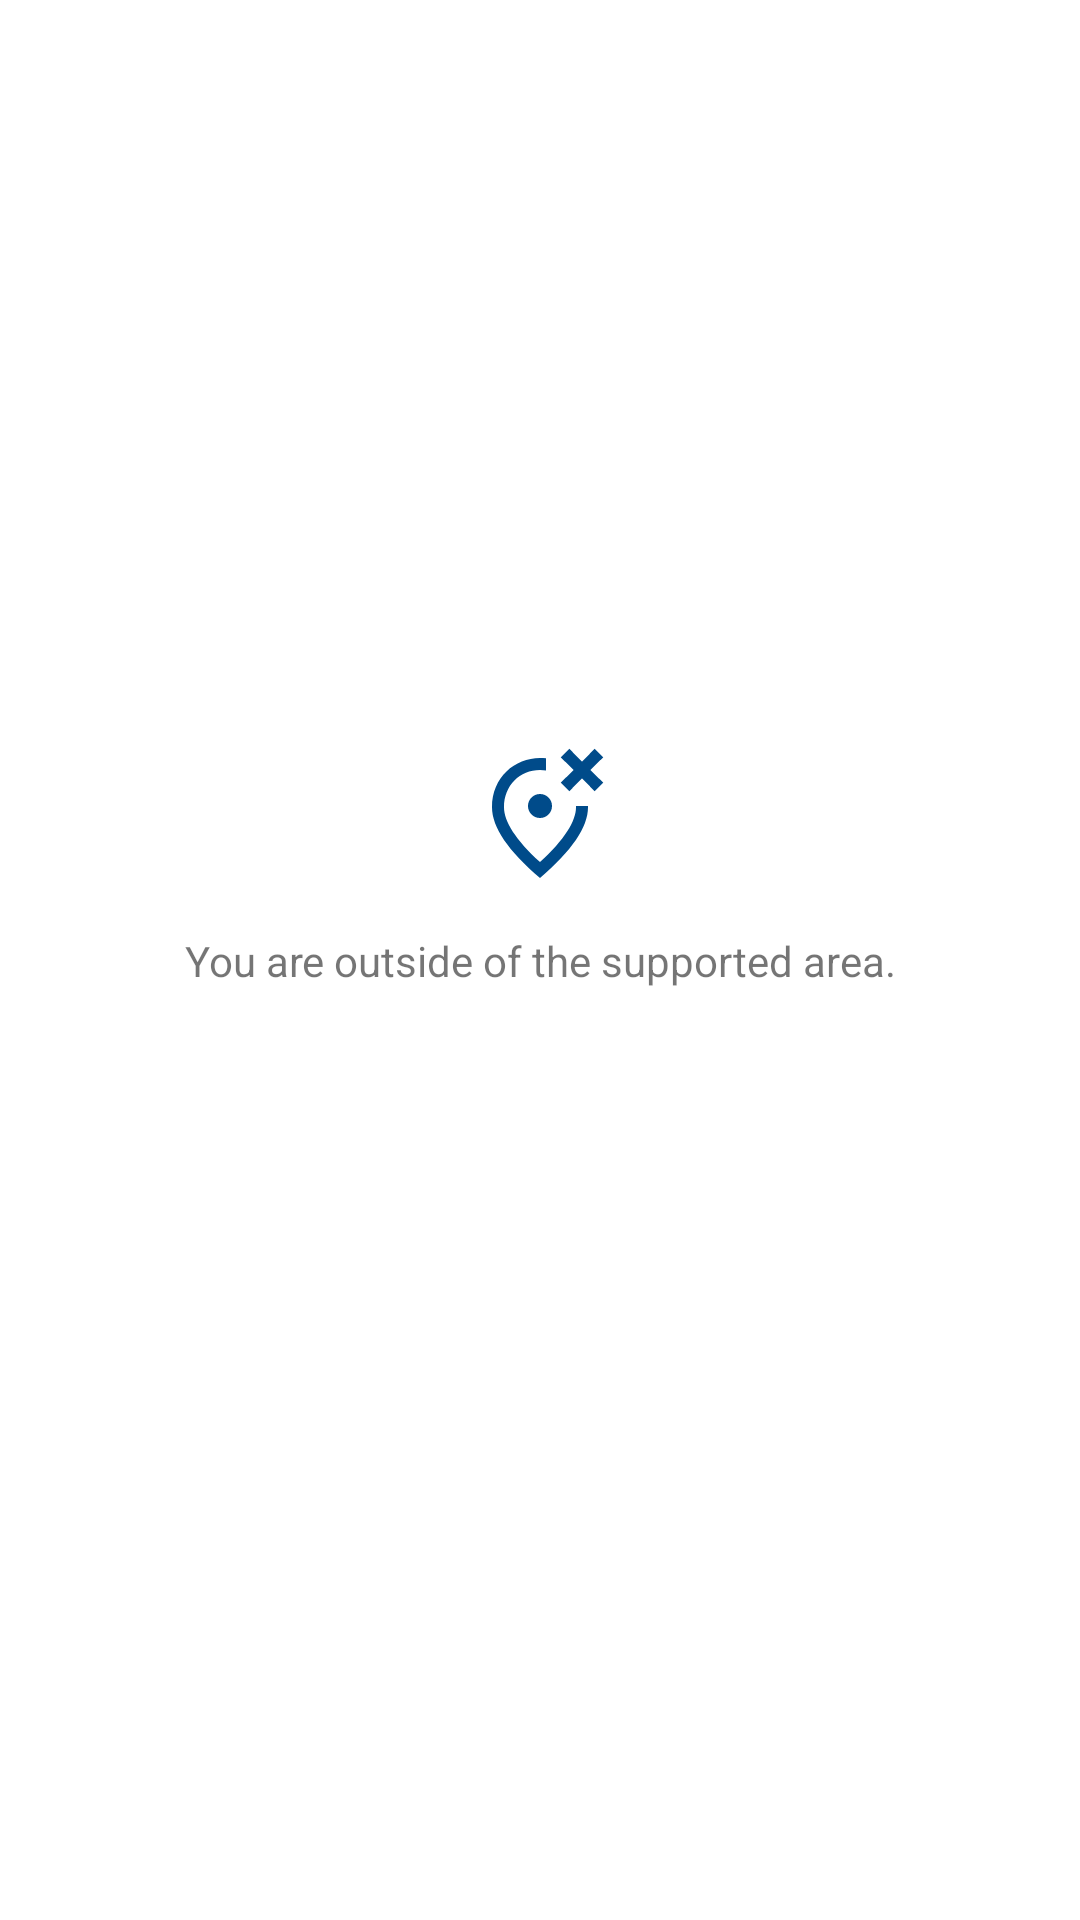

Icons on this 1080 x 1920 Android screen, each with its box as (x1, y1, x2, y2):
wrong location: (492, 749, 603, 878)
